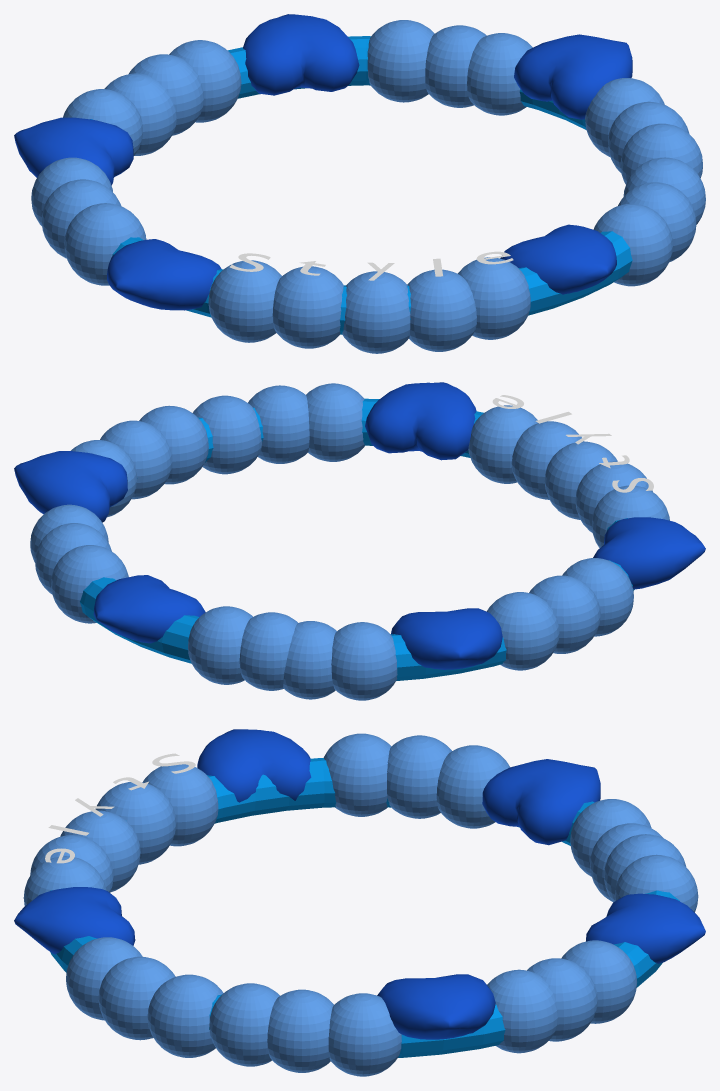
The model's file is NinteenEightyNine_style.fbx.
3 views of the same model, one above another, from view 1: azimuth 30°, elevation 25°; view 2: azimuth 150°, elevation 25°; view 3: azimuth 270°, elevation 25° (orthographic). The views are drawn at different scales.
Visible parts, largest first — view 1: Torus.028; view 2: Torus.028; view 3: Torus.028.
Boxes of the visible parts, x1,y1,x2,y2 form: Torus.028: [14, 14, 705, 353]; Torus.028: [14, 382, 705, 700]; Torus.028: [14, 729, 705, 1076].
Bounding box in the file's own units: 121 × 17.15 × 116.
